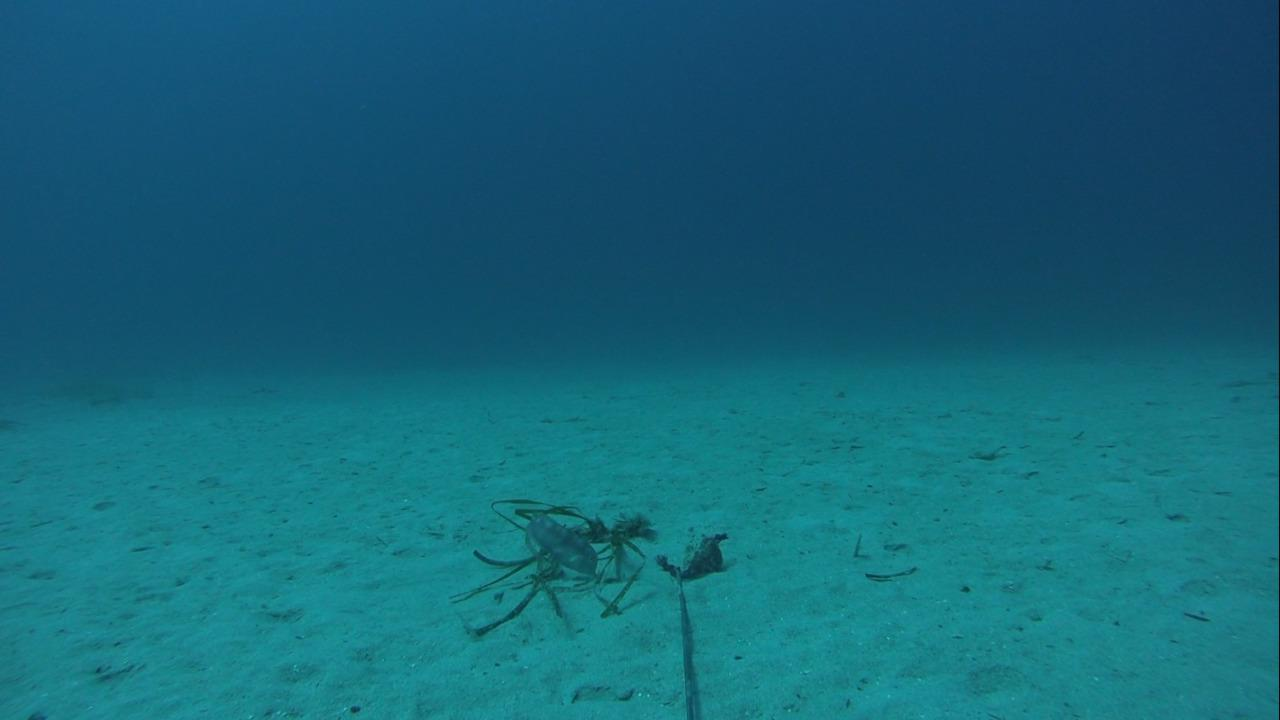raor: (516, 499, 606, 582)
